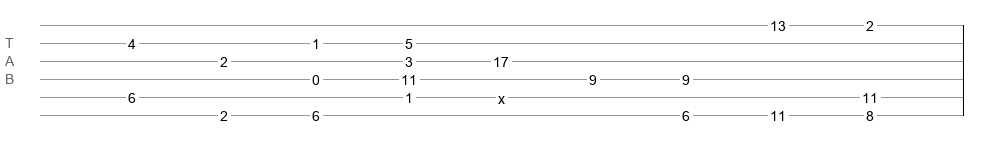0: (312, 72, 320, 82)
1: (312, 36, 320, 46), (405, 90, 413, 100)
11: (401, 72, 417, 82), (770, 108, 786, 118), (862, 90, 878, 100)
13: (770, 18, 786, 28)
17: (493, 54, 509, 64)
2: (220, 54, 228, 64), (220, 108, 228, 118), (866, 18, 874, 28)
3: (405, 54, 413, 64)
4: (128, 36, 136, 46)
5: (405, 36, 413, 46)
6: (128, 90, 136, 100), (312, 108, 320, 118), (682, 108, 690, 118)
8: (866, 108, 874, 118)
9: (589, 72, 597, 82), (682, 72, 690, 82)
x: (498, 91, 505, 99)
